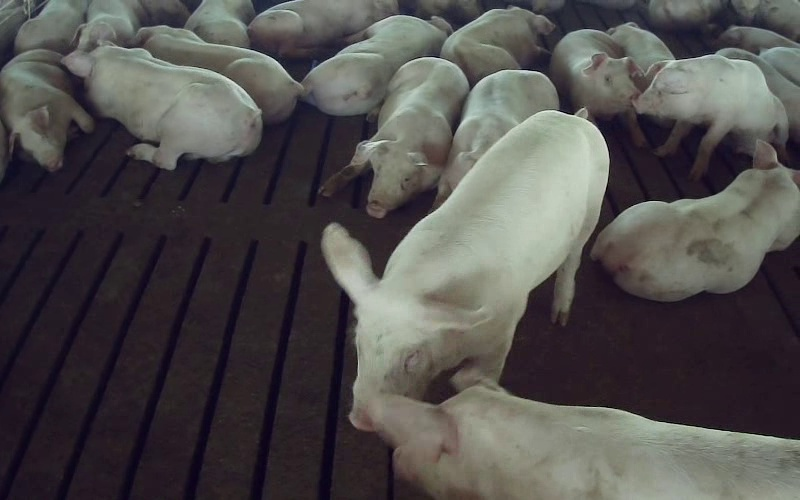pig: (370, 369, 799, 499), (591, 140, 799, 301), (62, 42, 260, 169), (320, 57, 468, 217), (634, 55, 788, 179), (434, 70, 558, 207), (136, 25, 303, 123), (0, 49, 93, 171), (550, 29, 645, 146), (440, 7, 554, 85), (248, 0, 398, 57), (716, 48, 799, 143), (74, 0, 140, 51), (184, 0, 254, 47), (607, 22, 674, 71)
